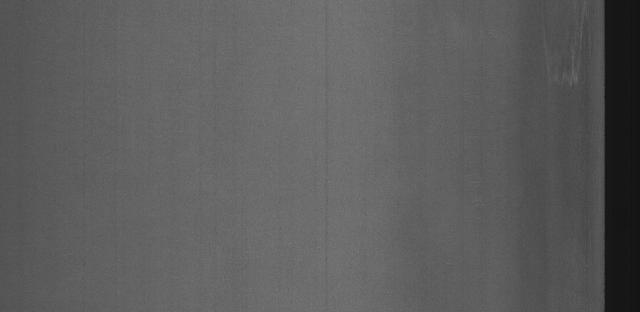silk_spot: (535, 11, 596, 94)
